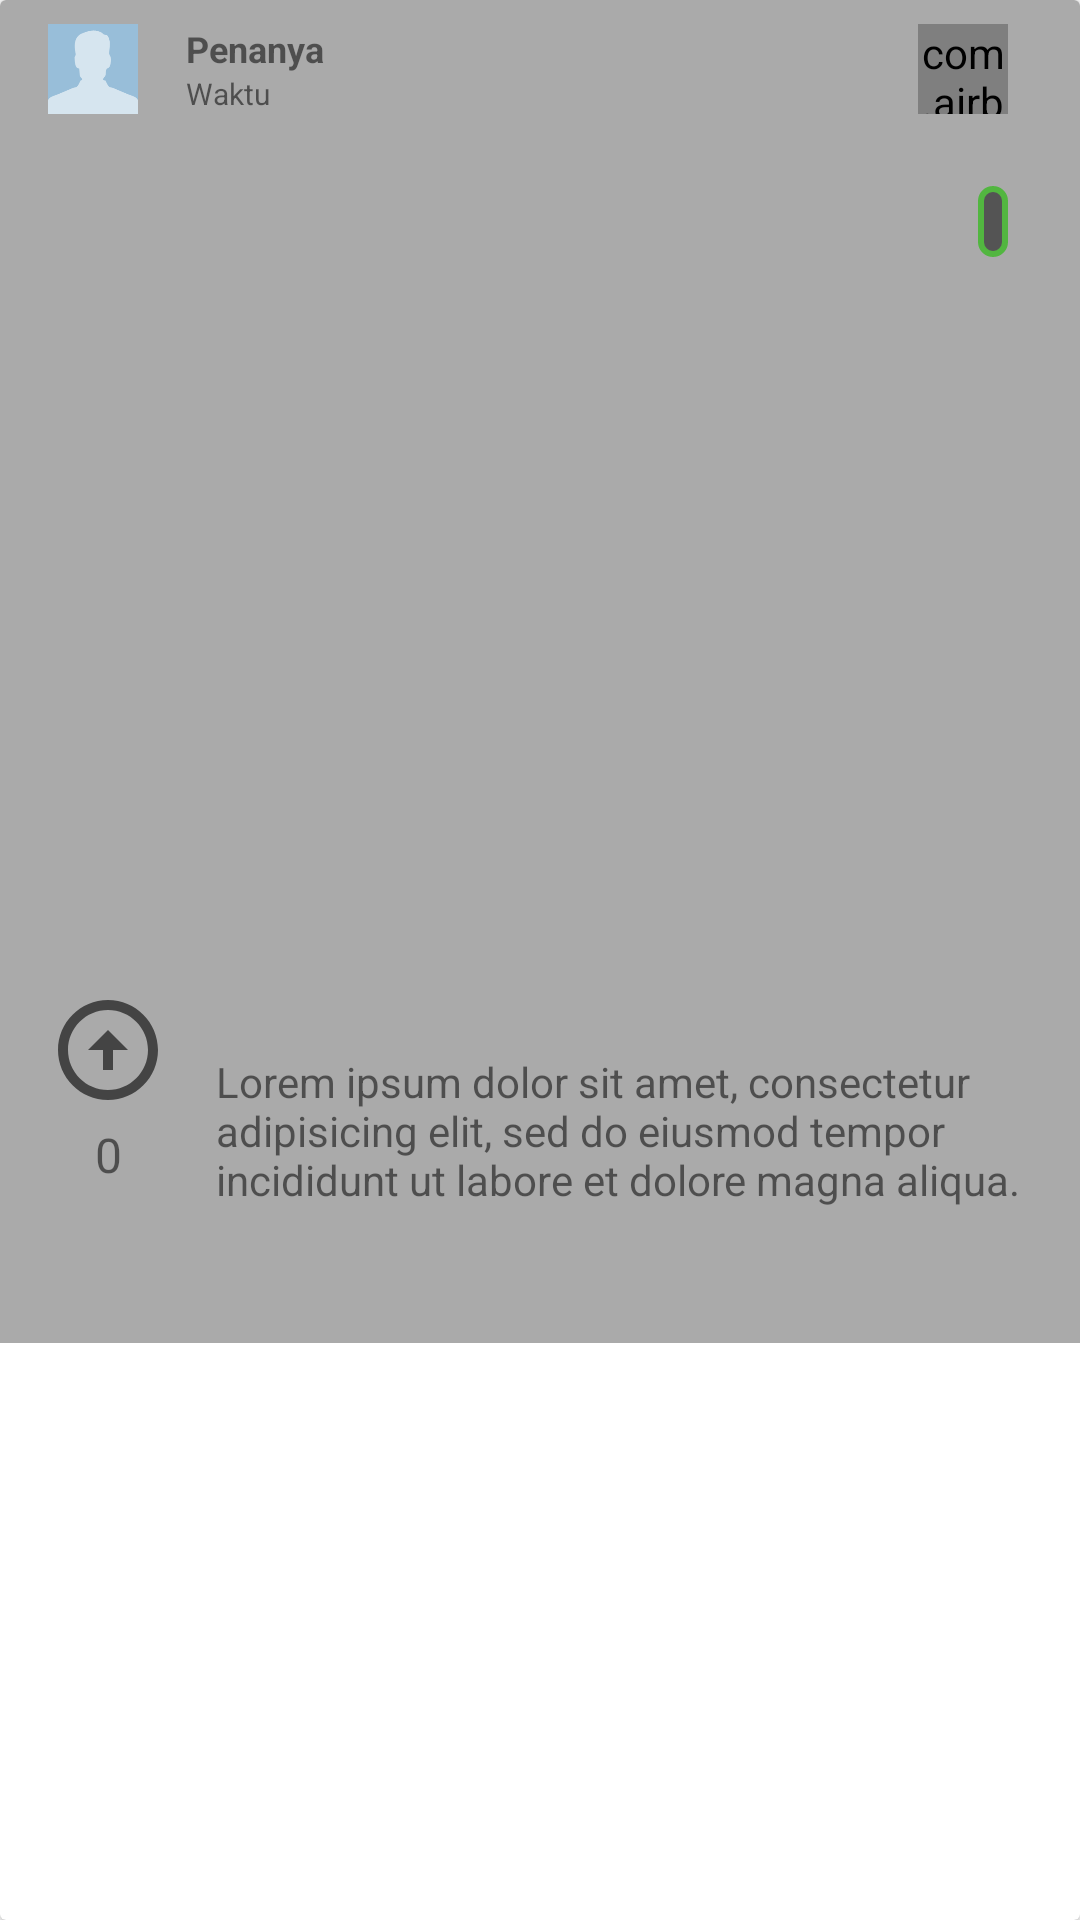

Icons on this 1080 x 1920 Android screen, each with the point to tap as point (x, y):
arrow up: point (108, 1050)
